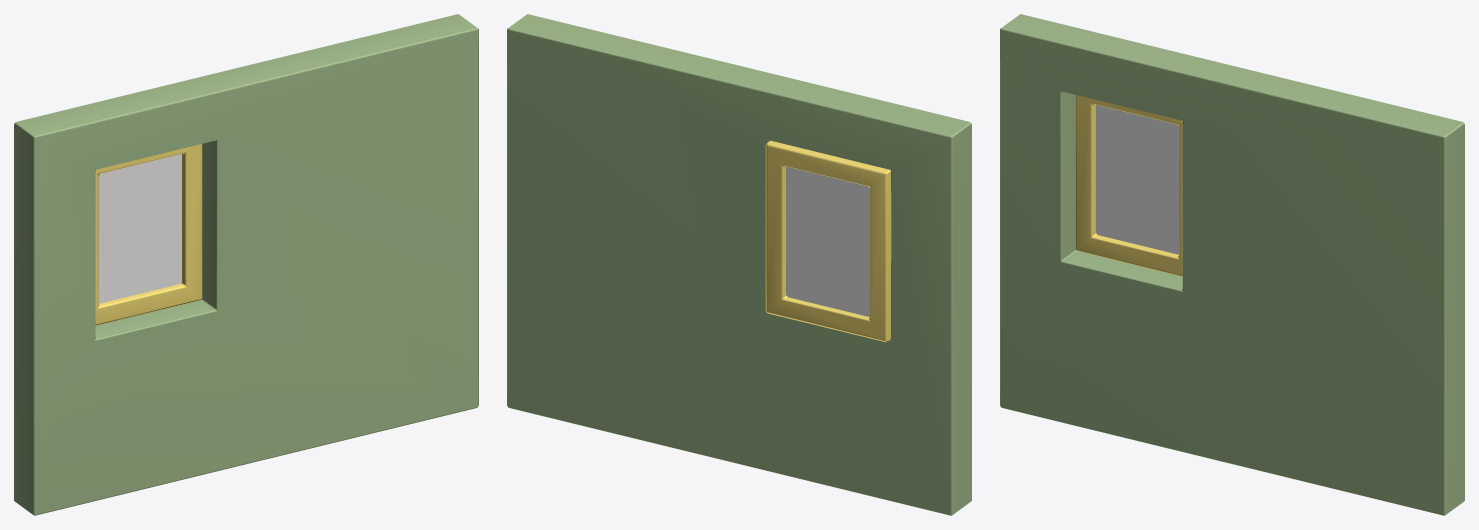
Rendered from Wall_green_window.glb.
The picture shows the model from 3 angles, left to right: view 1: azimuth 30°, elevation 25°; view 2: azimuth 150°, elevation 25°; view 3: azimuth 330°, elevation 25°; orthographic projection.
Parts seen in each view (by area): view 1: Wall_20; view 2: Wall_20; view 3: Wall_20.
Boxes of the visible parts, x1=… form: Wall_20: x1=14, y1=14, x2=478, y2=515; Wall_20: x1=507, y1=14, x2=971, y2=515; Wall_20: x1=1000, y1=14, x2=1464, y2=515.
Bounding box in the file's own units: 4.98 × 4.06 × 0.4703.
2 materials, 2 textured.
